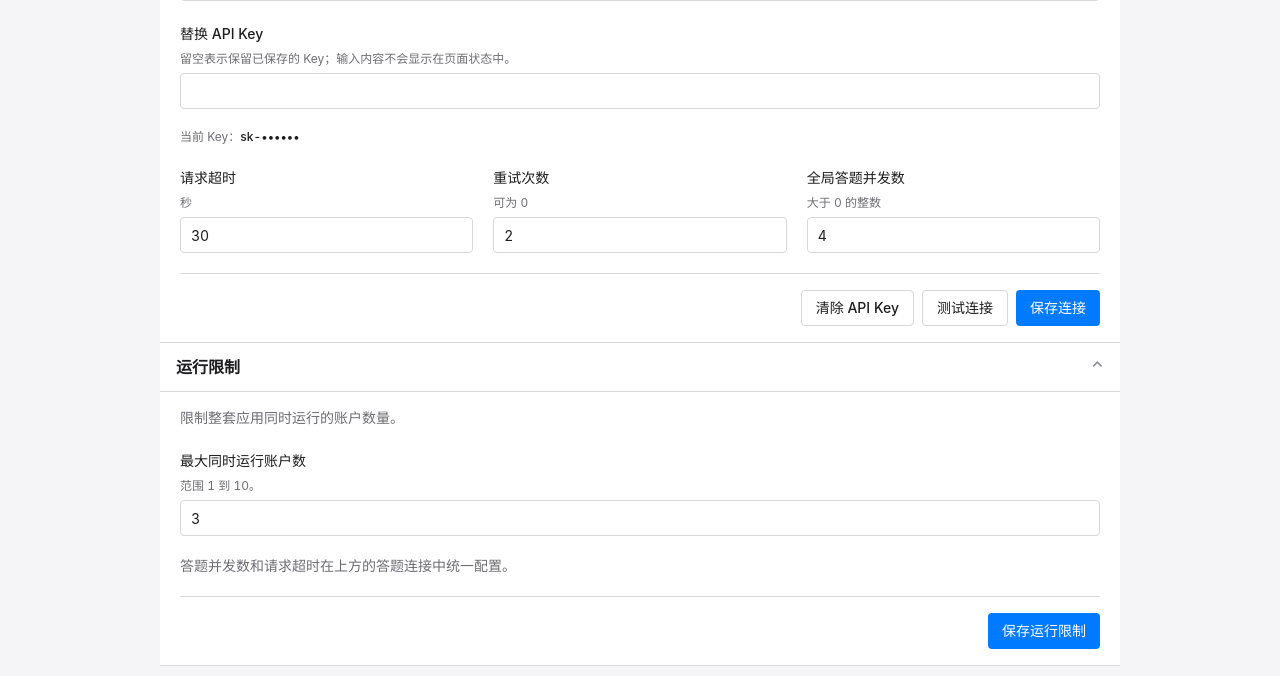
rejects a runtime account limit outside 1 to 10
(page scrolled)
Replace the text in the number field labelled "最大同时运行账户数" with "0" at (640, 518), box [180, 500, 1100, 536]
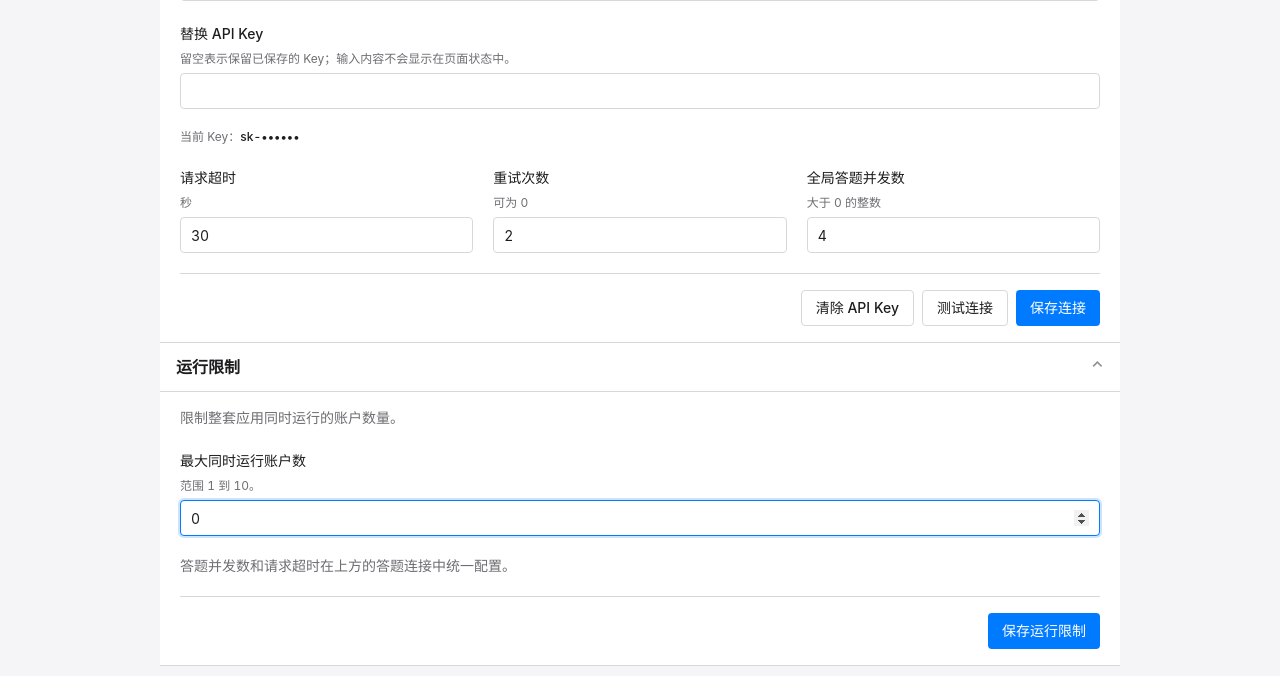
Click the button "保存运行限制" at (1044, 631), box [988, 613, 1100, 649]
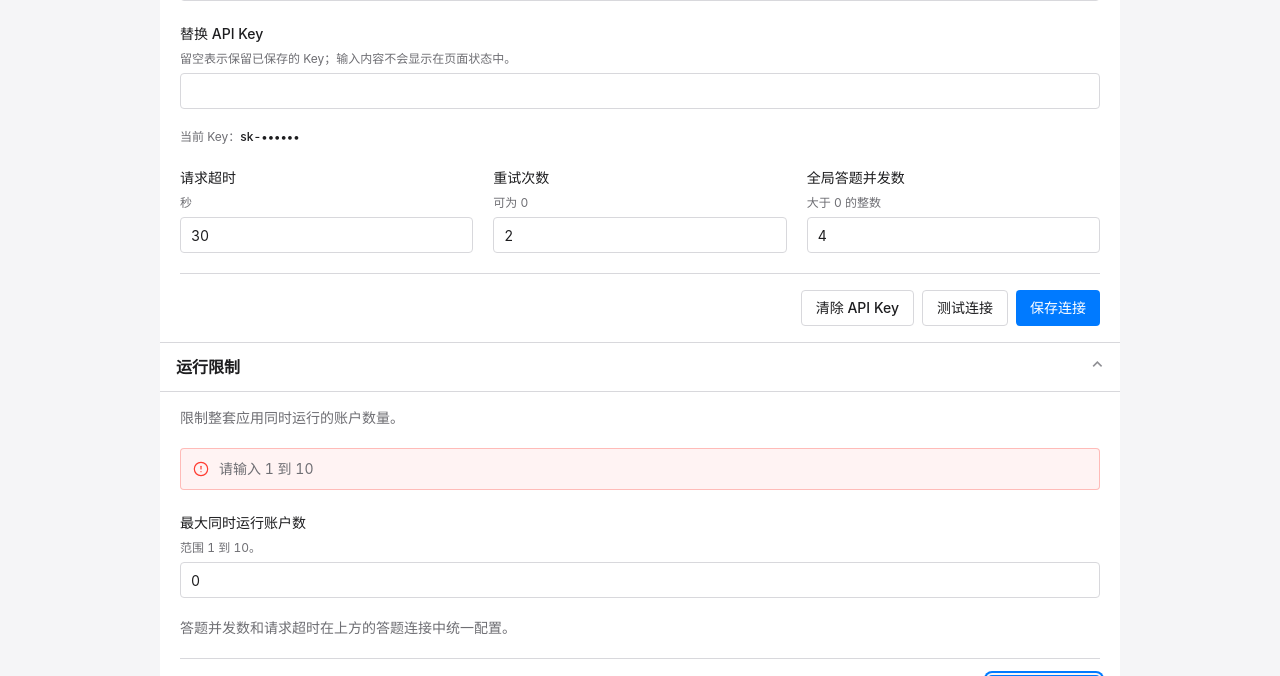
Expected: the text "请输入 1 到 10" is shown, [219, 460, 314, 477]
